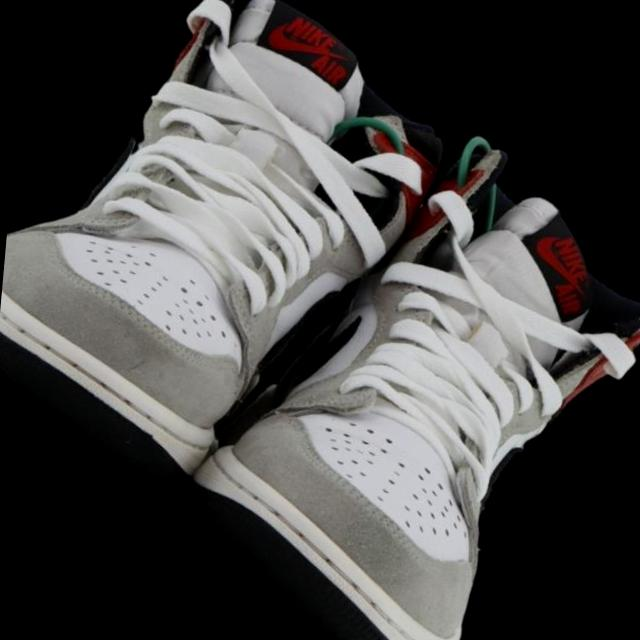nike_original_jordan: (138, 93, 640, 640), (0, 0, 494, 542)
